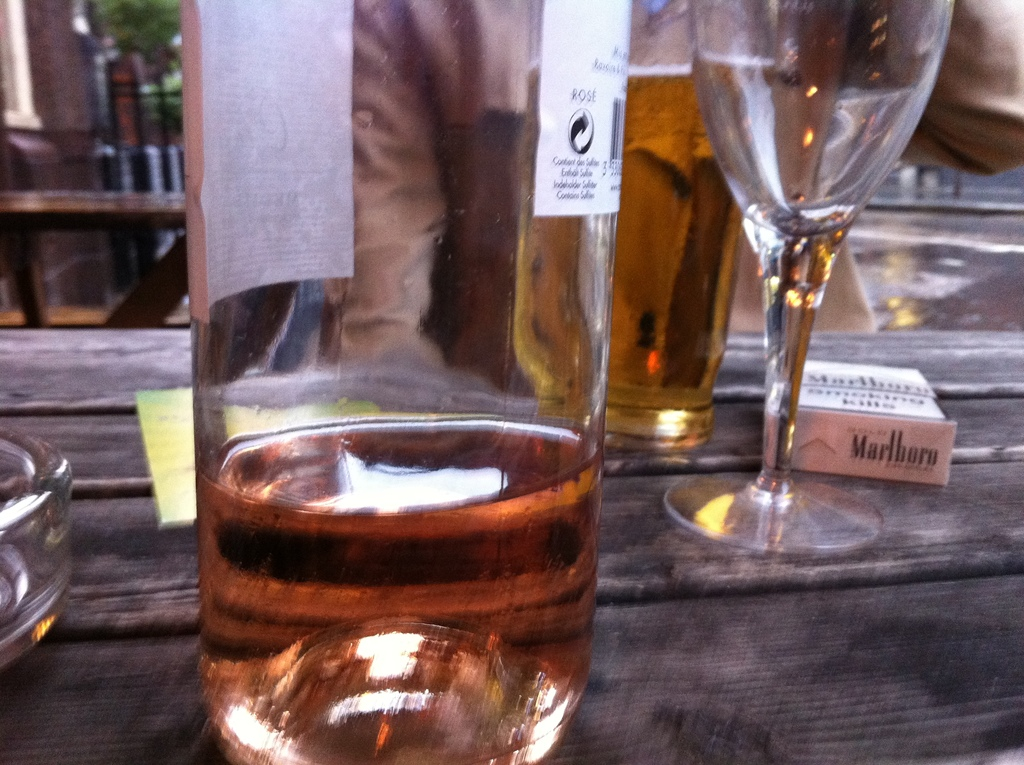Beer: (158, 1, 629, 764), (670, 0, 988, 585)
